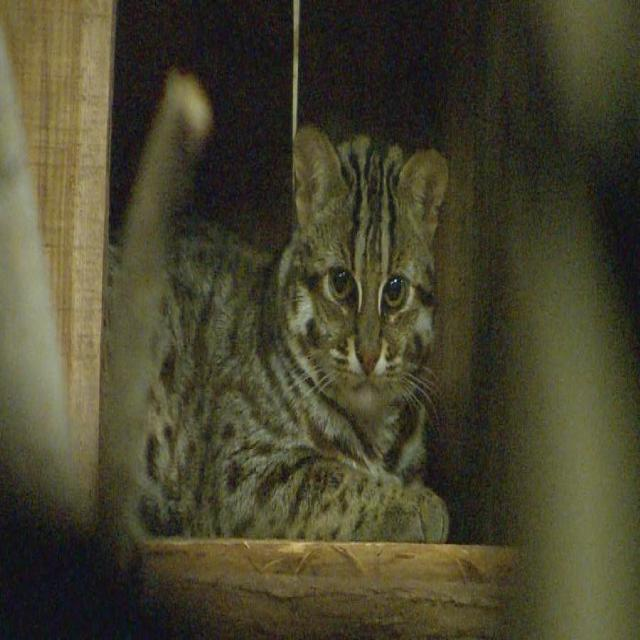leopard: (208, 95, 518, 472)
